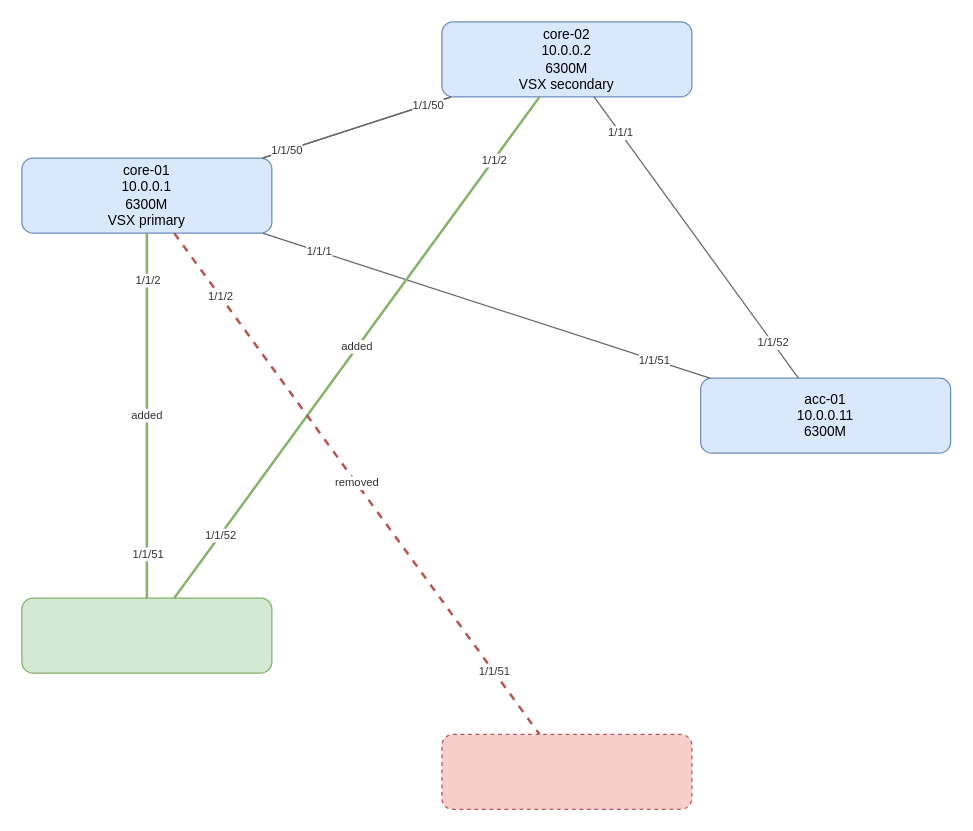
Image size: 973x831. Some labels were removed from this diagram. The shapes that lost their labels are listed below. From the top down, each one's box as (x1, y1, x2, y2) in pixels, then its label:
(21, 597, 272, 673): acc-03 10.0.0.13 6300M
(441, 733, 692, 809): acc-02 10.0.0.12 6300M
